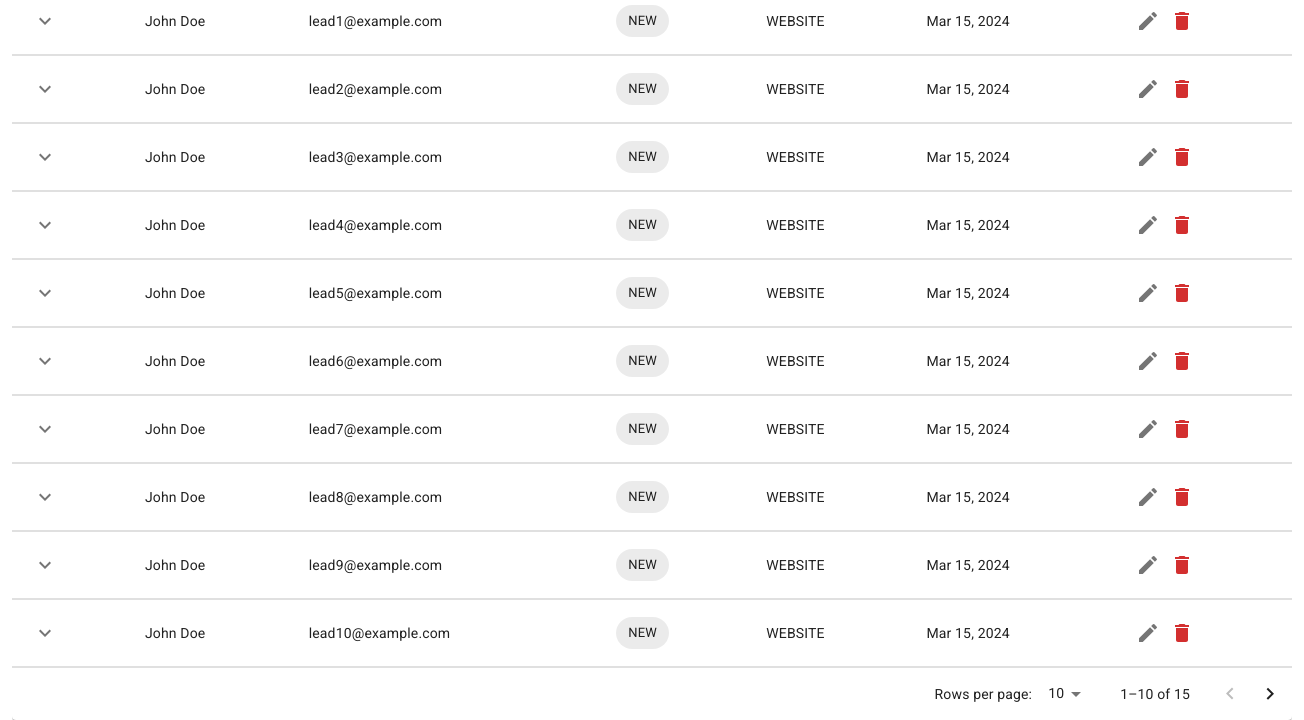
Test: LeadList › handles pagination
The image size is (1304, 720).
(page scrolled)
Expected: the text "lead11@example.com" is not shown
Note: Go to next page
Click the button named "Go to next page". click: coordinates (1270, 694)
box: [1250, 674, 1290, 714]
(page scrolled)
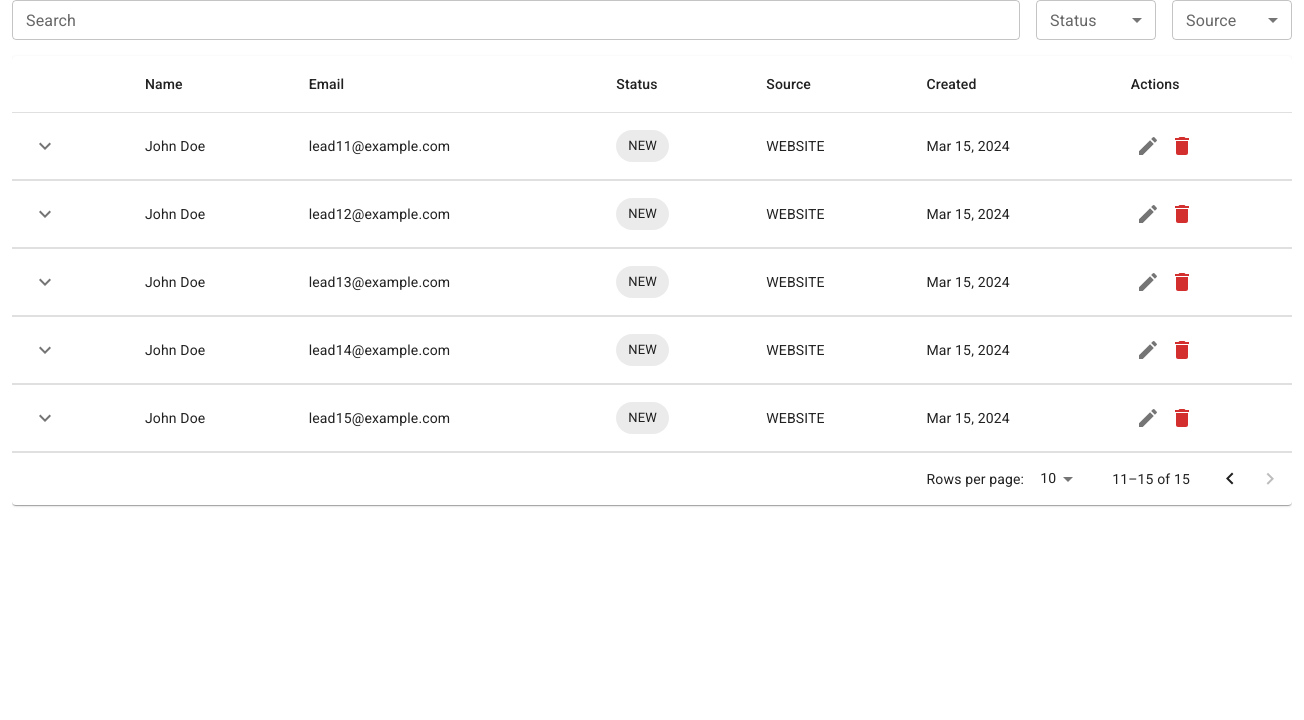
Now the text "lead11@example.com" is shown, box [293, 112, 600, 180]
